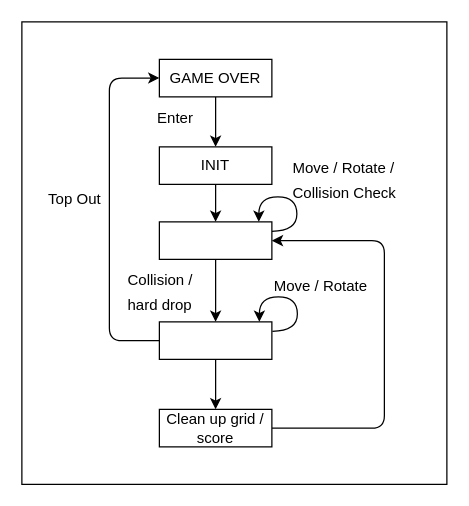
This 469x506 diagram has some shape labels left out. The shapes that lost their labels are listed below. From the top down, each one's centre as x and y in pixels, then its label:
pixel 215 240: PLAY
pixel 215 340: LOCK
